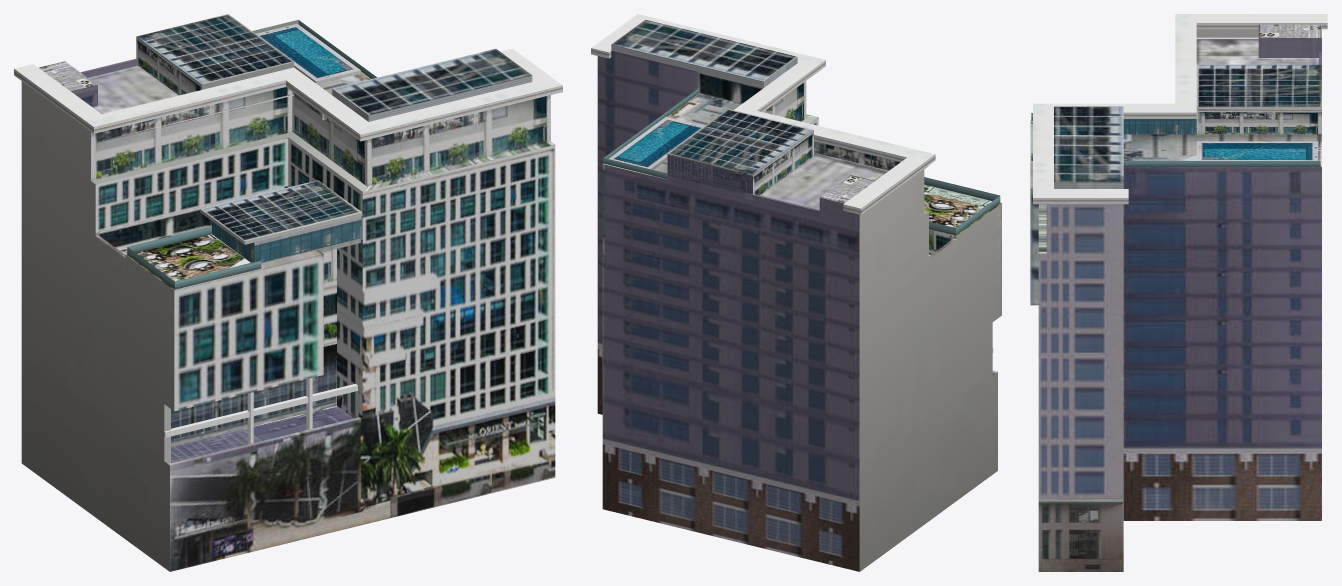
The picture shows the model from 3 angles, left to right: view 1: azimuth 30°, elevation 25°; view 2: azimuth 150°, elevation 25°; view 3: azimuth 270°, elevation 25°; orthographic projection. The views are drawn at different scales.
Parts seen in each view (by area): view 1: NewOrientHotel; view 2: NewOrientHotel; view 3: NewOrientHotel.
Boxes of the visible parts, x1,y1,x2,y2 form: NewOrientHotel: (14,14,562,571); NewOrientHotel: (591,14,1001,571); NewOrientHotel: (1030,14,1327,571).
Size of the model in its own units: 61.41 by 59.56 by 41.97.
1 material, 1 textured.
